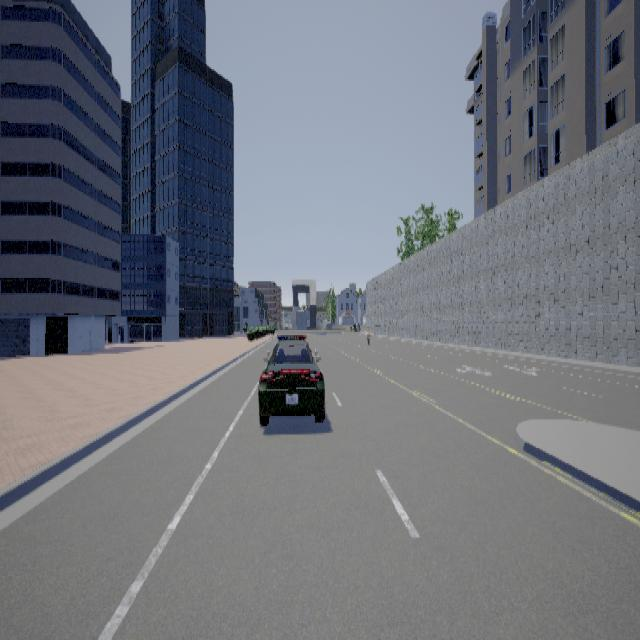vehicle: (259, 334, 326, 424)
